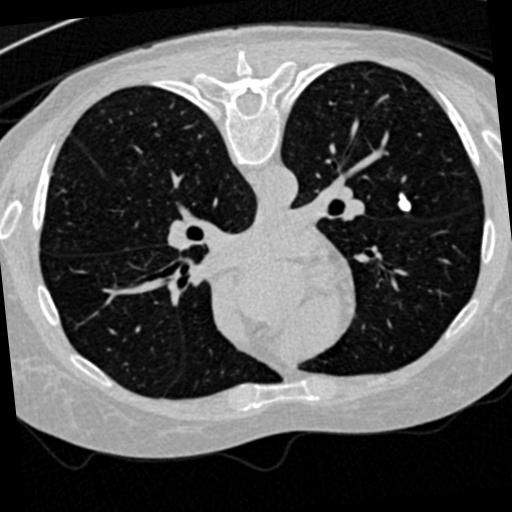nodule: (395, 197, 413, 215)
